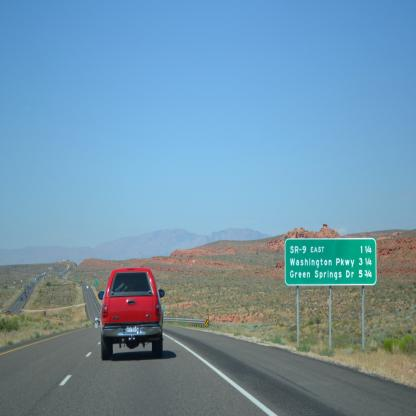Car: (96, 269, 171, 366)
